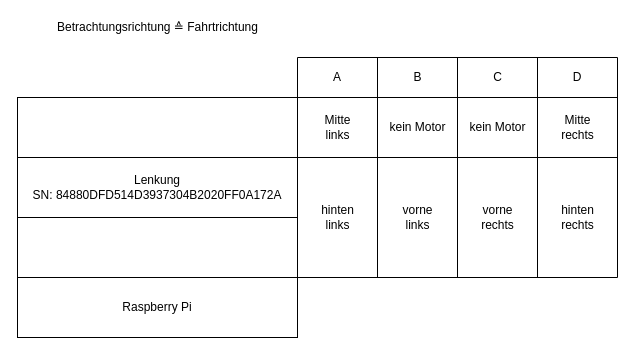
Image size: 636x355. Some labels were removed from this diagram. The box of each missing label's shape, as (x1, y1, x2, y2) in pixels:
Antrieb Mitte SN: 45C31FAF514D3937304B2020FF15122B: (16, 96, 298, 158)
Antrieb vorne/hinten SN: 07976FB6515035524E202020FF101B0C: (16, 216, 298, 278)
